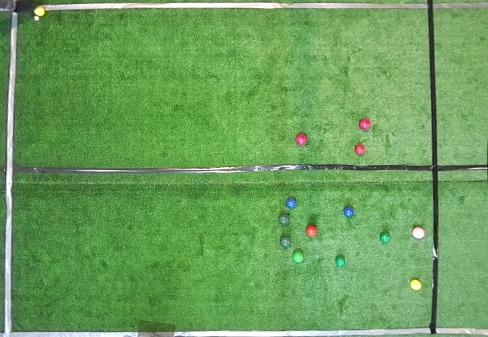blue: (344, 206, 354, 218), (286, 198, 296, 209)
green: (379, 232, 391, 244), (280, 236, 291, 248), (293, 251, 304, 263), (335, 256, 345, 268), (279, 214, 289, 225)
red: (412, 226, 425, 239), (295, 134, 307, 146), (359, 119, 371, 131), (306, 225, 317, 237), (355, 145, 365, 156)
vline: (425, 0, 487, 336), (0, 0, 20, 336)
white: (34, 15, 40, 21)
yellow: (33, 5, 46, 17), (410, 279, 422, 290)
